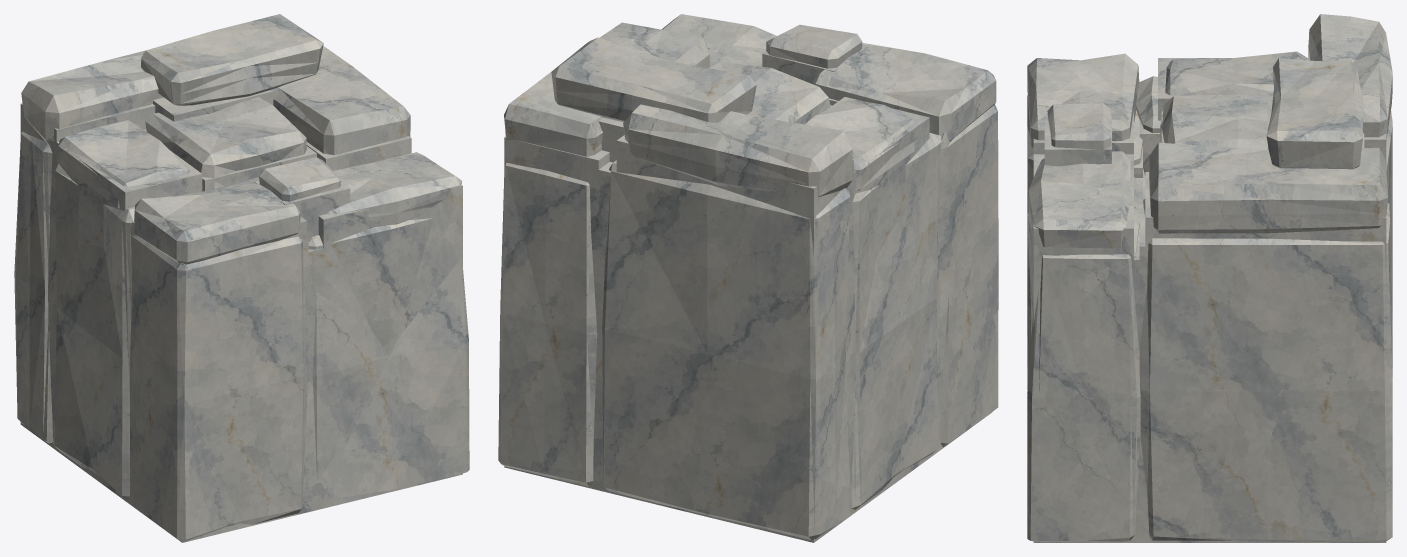
File: wall_stone_05.glb
3 views of the same model, side by side, from view 1: azimuth 30°, elevation 25°; view 2: azimuth 150°, elevation 25°; view 3: azimuth 270°, elevation 25° (orthographic). The views are drawn at different scales.
Parts seen in each view (by area): view 1: WallStone05; view 2: WallStone05; view 3: WallStone05.
Part boxes in pixels (x1,y1,x2,y2): WallStone05: (14,14,469,542); WallStone05: (498,14,998,542); WallStone05: (1027,14,1392,542).
Size of the model in its own units: 1 by 1.19 by 1.
Materials: 1 (1 with a texture image).
